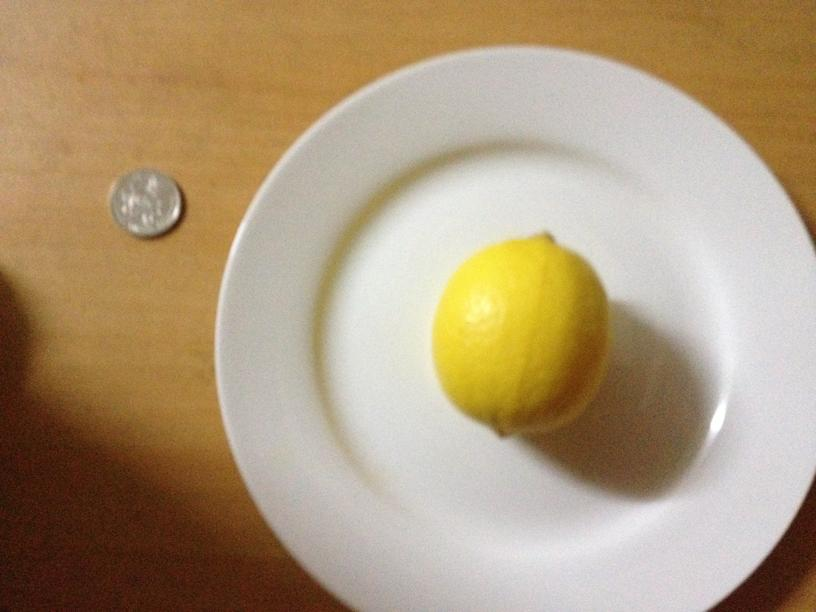coin: (108, 166, 182, 239)
lemon: (430, 233, 611, 435)
